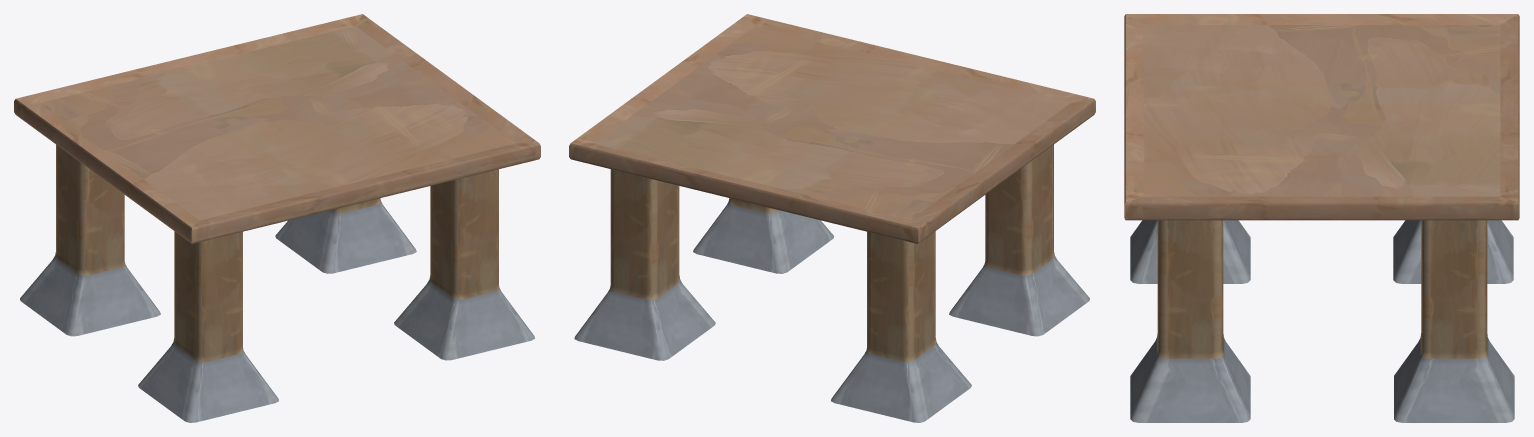
File: Table.fbx
The picture shows the model from 3 angles, left to right: view 1: azimuth 30°, elevation 25°; view 2: azimuth 150°, elevation 25°; view 3: azimuth 270°, elevation 25°; orthographic projection. The views are drawn at different scales.
Parts seen in each view (by area): view 1: Table_mesh; view 2: Table_mesh; view 3: Table_mesh.
Boxes of the visible parts, box(x1,y1,x2,y2) form: Table_mesh: box(14, 14, 540, 422); Table_mesh: box(569, 14, 1095, 422); Table_mesh: box(1124, 14, 1519, 422).
Size of the model in its own units: 137 by 73.79 by 120.
